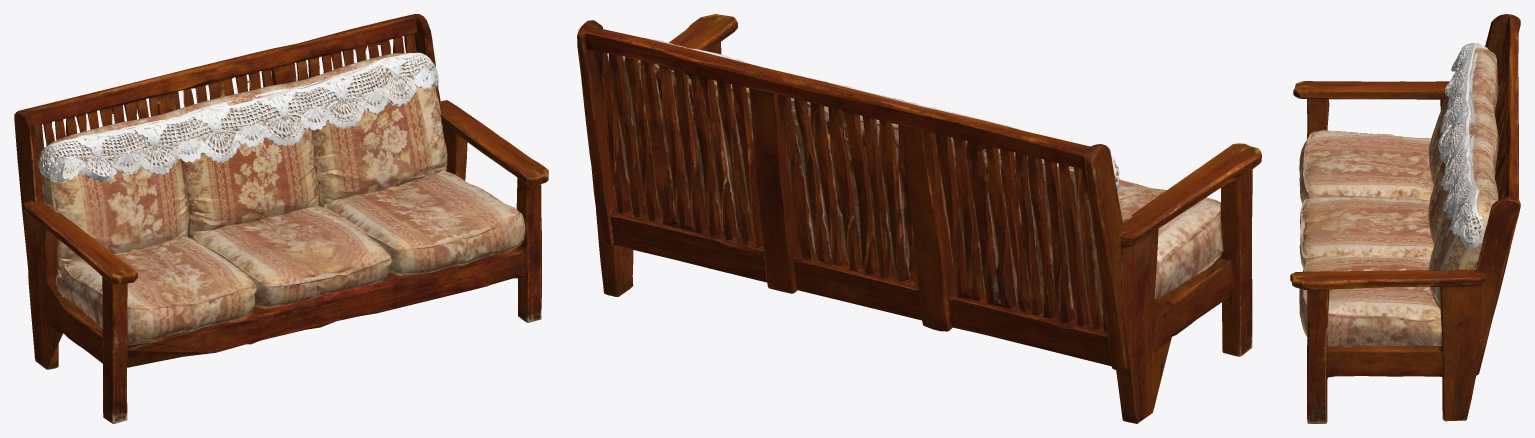
File: w4sofa.glb
3 views of the same model, side by side, from view 1: azimuth 30°, elevation 25°; view 2: azimuth 150°, elevation 25°; view 3: azimuth 270°, elevation 25° (orthographic). The views are drawn at different scales.
Parts seen in each view (by area): view 1: output_unwrapped; view 2: output_unwrapped; view 3: output_unwrapped.
Boxes of the visible parts, x1,y1,x2,y2 form: output_unwrapped: (14, 14, 548, 423); output_unwrapped: (577, 14, 1261, 423); output_unwrapped: (1290, 14, 1520, 423).
Size of the model in its own units: 1.9 by 0.9552 by 0.9125.
1 material, 1 textured.
